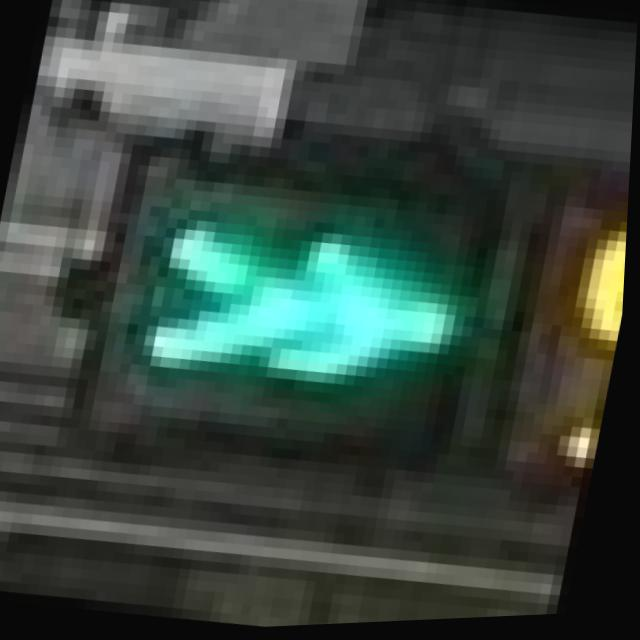green_light: (77, 82, 581, 511)
